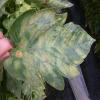Tomato mold leaf: (12, 6, 97, 91)
